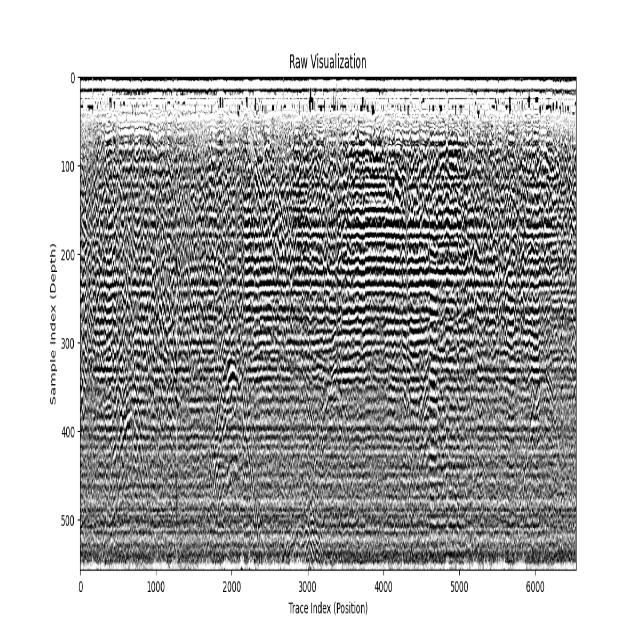anomaly: (101, 380, 162, 573), (514, 358, 572, 560), (301, 367, 361, 560), (203, 356, 264, 541), (399, 371, 452, 547)
